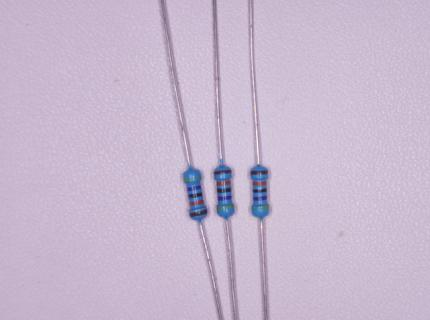Black band: (188, 192, 203, 199), (217, 188, 232, 193), (253, 188, 267, 193)
Brown band: (189, 209, 208, 218), (213, 170, 231, 175), (251, 170, 268, 175)
Orange band: (189, 199, 204, 206), (216, 181, 231, 186), (252, 181, 266, 186)
Violet band: (217, 195, 232, 202), (186, 185, 201, 192), (253, 196, 267, 201)
Yellow band: (183, 176, 201, 182), (216, 205, 234, 211), (252, 205, 269, 210)
